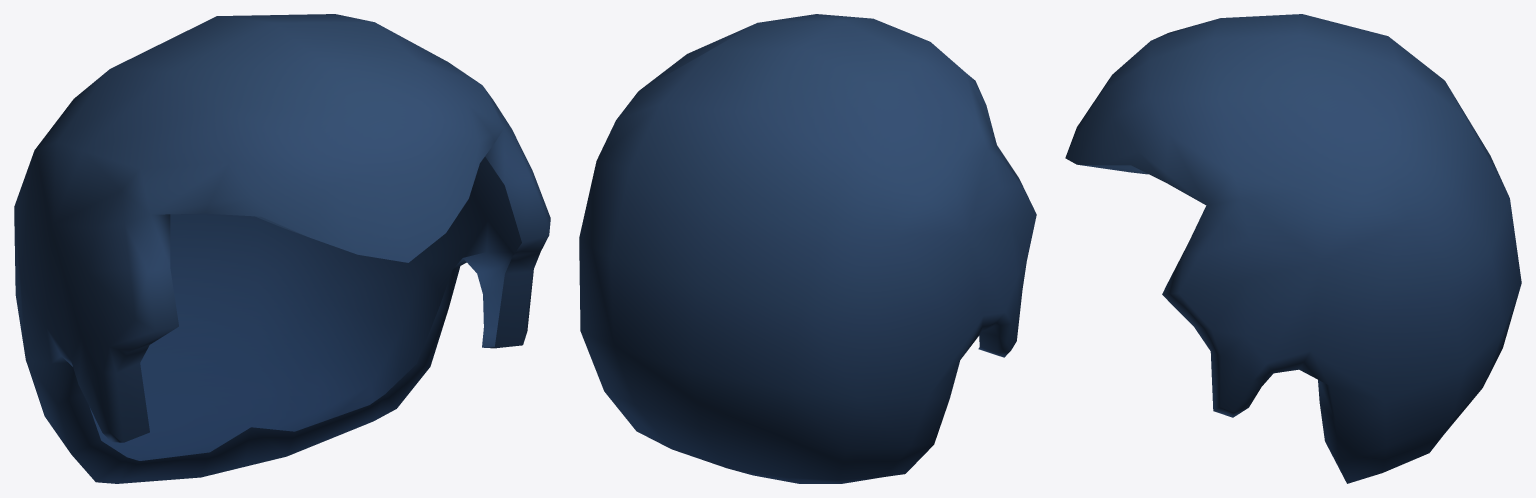
Rendered from Hair_Blue_2.fbx.
3 views of the same model, side by side, from view 1: azimuth 30°, elevation 25°; view 2: azimuth 150°, elevation 25°; view 3: azimuth 270°, elevation 25° (orthographic). The views are drawn at different scales.
Visible parts, largest first — view 1: Hair_Blue_2; view 2: Hair_Blue_2; view 3: Hair_Blue_2.
Boxes of the visible parts, bbox=[...] form: Hair_Blue_2: bbox=[14, 14, 550, 483]; Hair_Blue_2: bbox=[579, 14, 1036, 483]; Hair_Blue_2: bbox=[1065, 14, 1521, 483].
Size of the model in its own units: 52.84 by 52.69 by 53.88.
